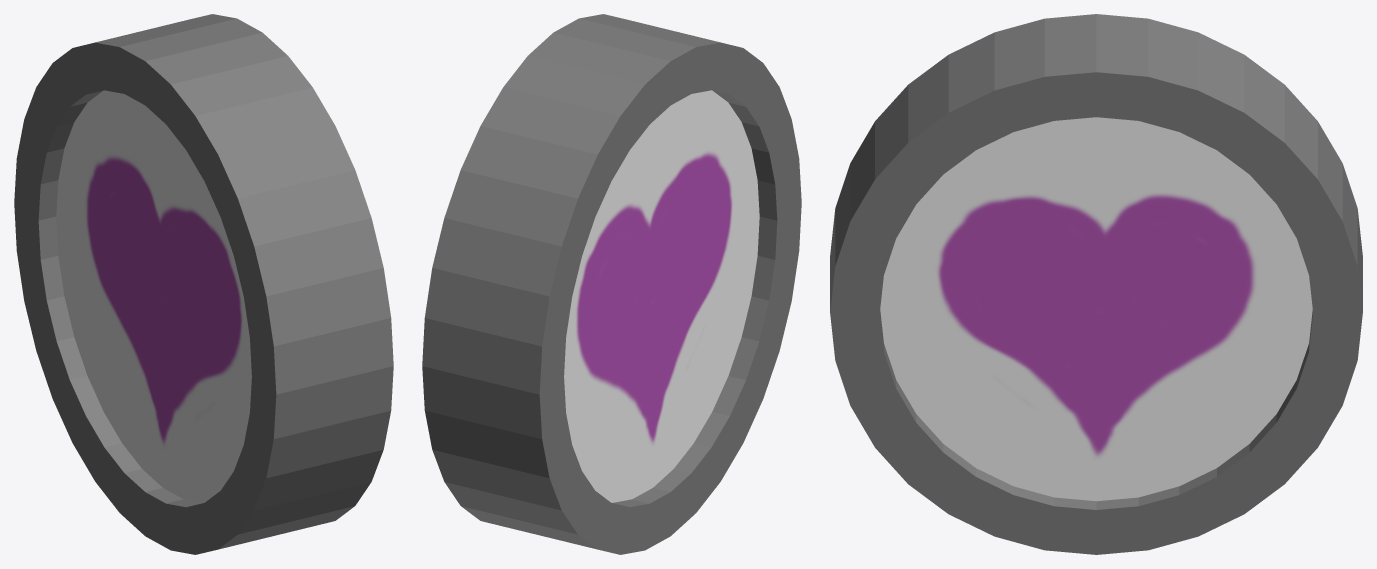
File: HeartMedal.fbx
3 renders of one model, left to right at view 1: azimuth 30°, elevation 25°; view 2: azimuth 150°, elevation 25°; view 3: azimuth 270°, elevation 25°, orthographic.
Parts seen in each view (by area): view 1: Cylinder.007, Cylinder.006; view 2: Cylinder.007, Cylinder.006; view 3: Cylinder.006, Cylinder.007.
Boxes of the visible parts, left/top/right/bottom form: Cylinder.007: left=14, top=14, right=393, bottom=554; Cylinder.006: left=56, top=90, right=251, bottom=502; Cylinder.007: left=422, top=14, right=801, bottom=554; Cylinder.006: left=564, top=90, right=759, bottom=502; Cylinder.006: left=880, top=117, right=1312, bottom=501; Cylinder.007: left=830, top=14, right=1362, bottom=554.
Size of the model in its own units: 0.1122 by 0.4337 by 0.4337.
